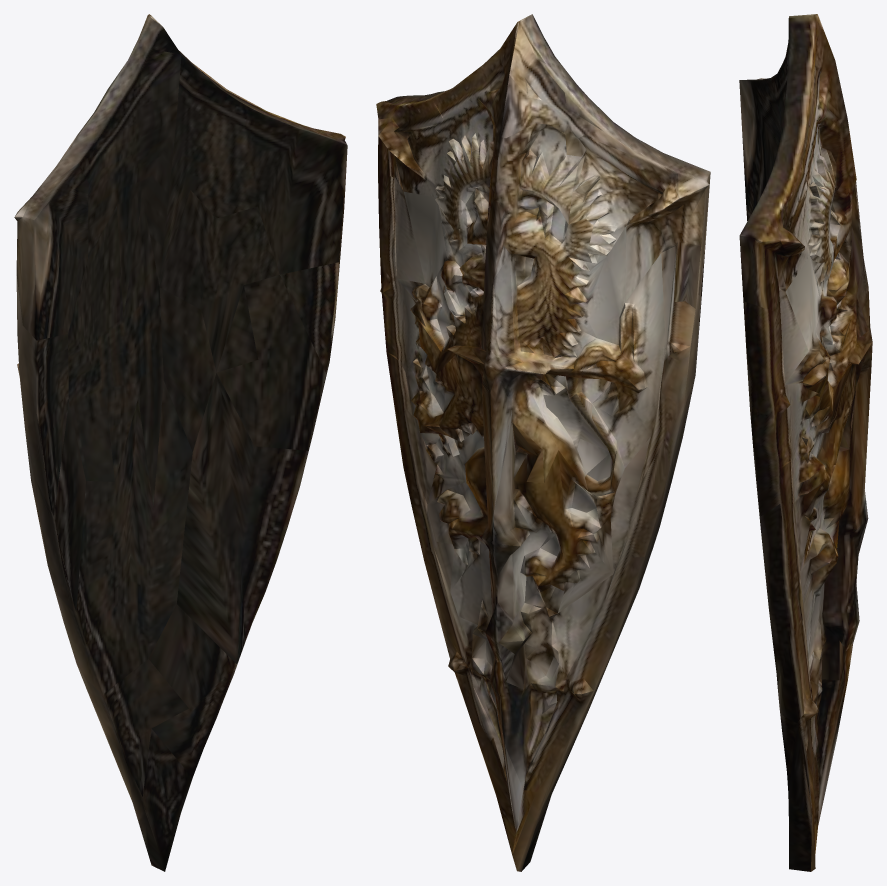
The model's file is kite_gilded_drake.glb.
The picture shows the model from 3 angles, left to right: view 1: azimuth 30°, elevation 25°; view 2: azimuth 150°, elevation 25°; view 3: azimuth 270°, elevation 25°; orthographic projection.
Parts seen in each view (by area): view 1: kite_gilded_drake; view 2: kite_gilded_drake; view 3: kite_gilded_drake.
Boxes of the visible parts, box(x1,y1,x2,y2) form: kite_gilded_drake: box(14, 14, 347, 871); kite_gilded_drake: box(376, 14, 710, 871); kite_gilded_drake: box(739, 14, 872, 871).
Bounding box in the file's own units: 0.368 × 0.9001 × 0.127.
Materials: 1 (1 with a texture image).
